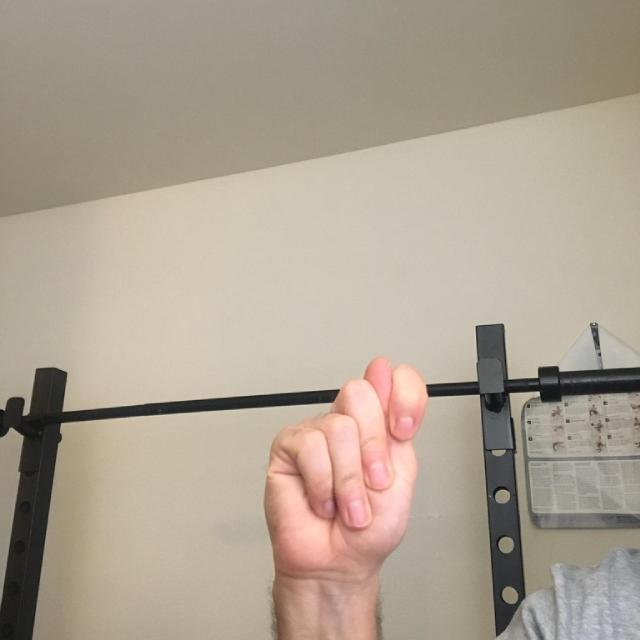T: (223, 326, 472, 600)
